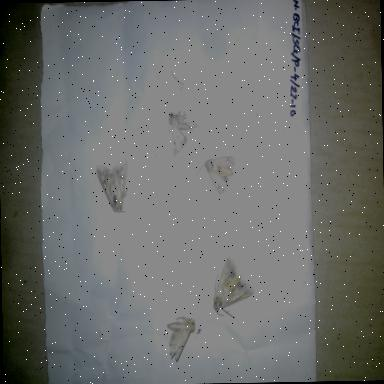abw: (211, 260, 255, 318), (194, 144, 239, 198), (94, 160, 137, 216), (156, 314, 202, 362), (164, 108, 199, 159)
